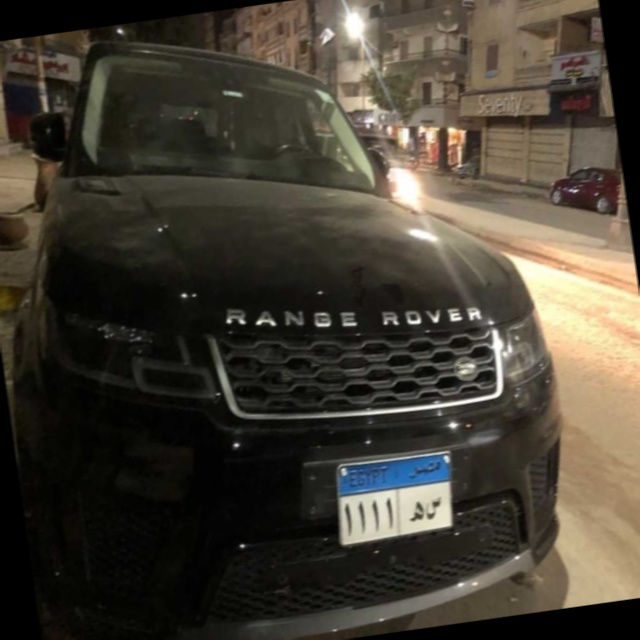License Plate: (327, 450, 461, 550)
